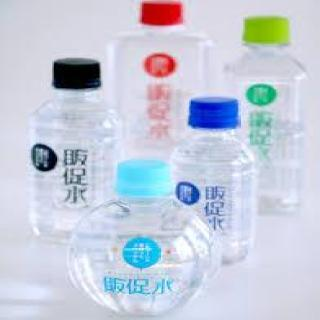Plastic-bottle: (63, 156, 221, 320), (223, 11, 320, 220), (26, 55, 127, 246), (111, 1, 222, 165), (168, 95, 262, 270)
